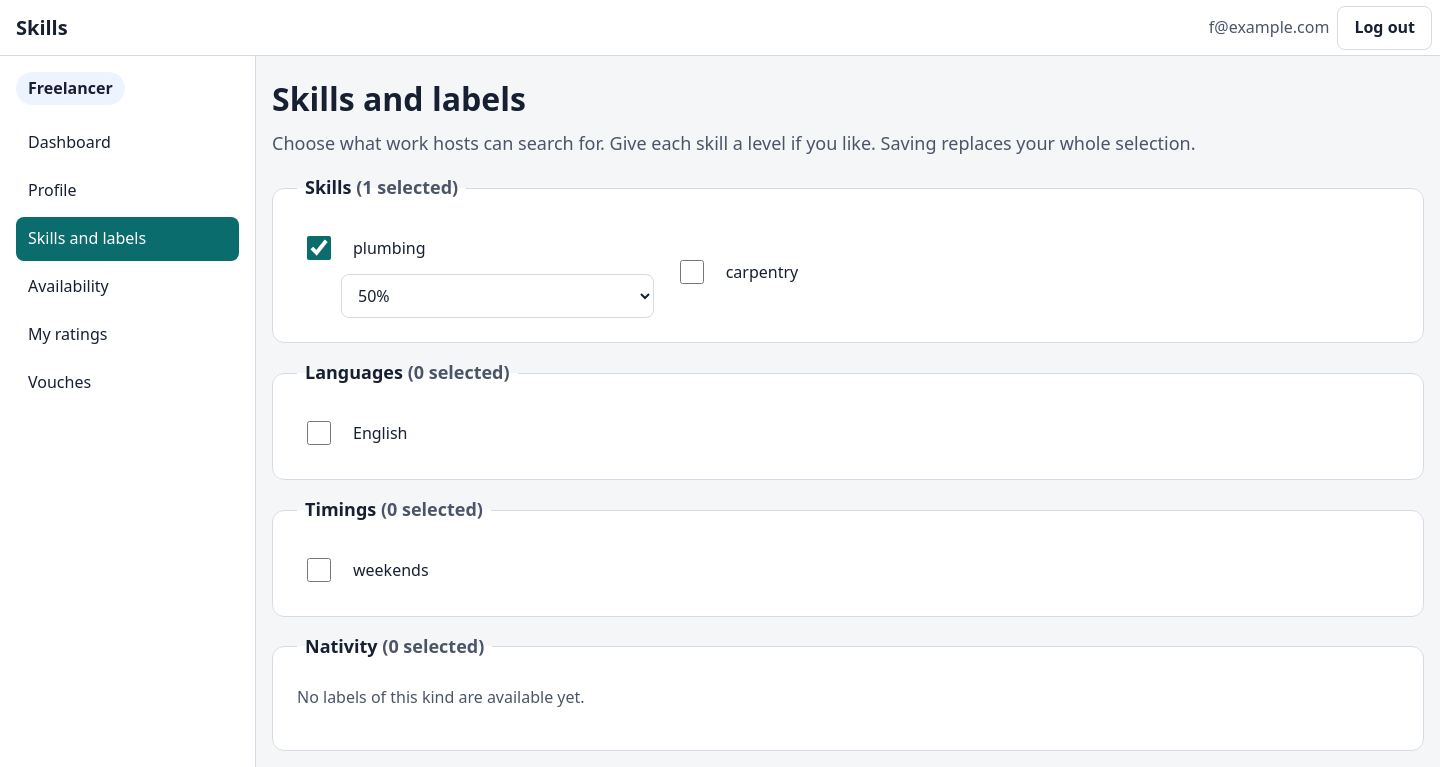
Scenario: skills and labels page › removes a label and its level when it is unticked
Click the checkbox labelled "plumbing": (319,248) [307, 236, 331, 260]
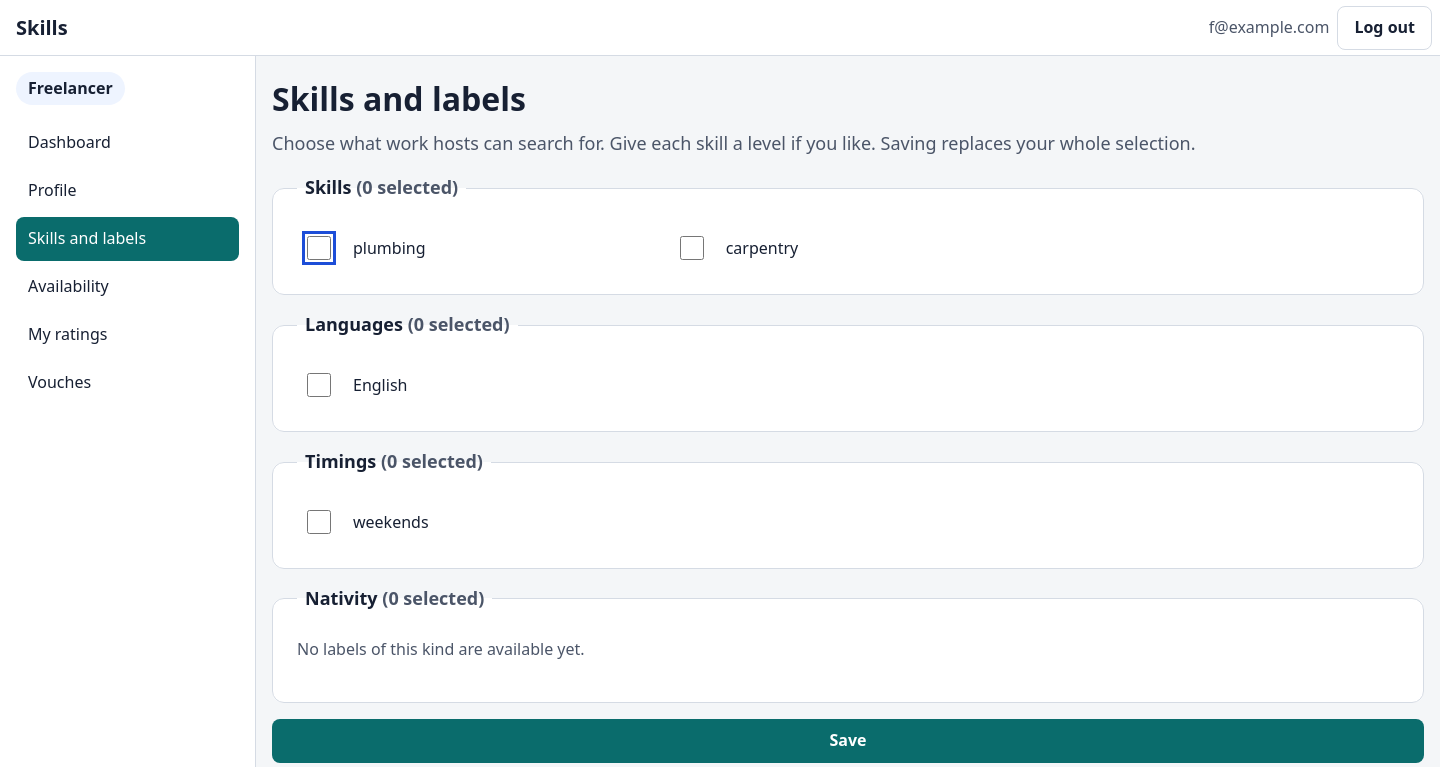
Click the button "Save": (848,741) [272, 719, 1424, 763]
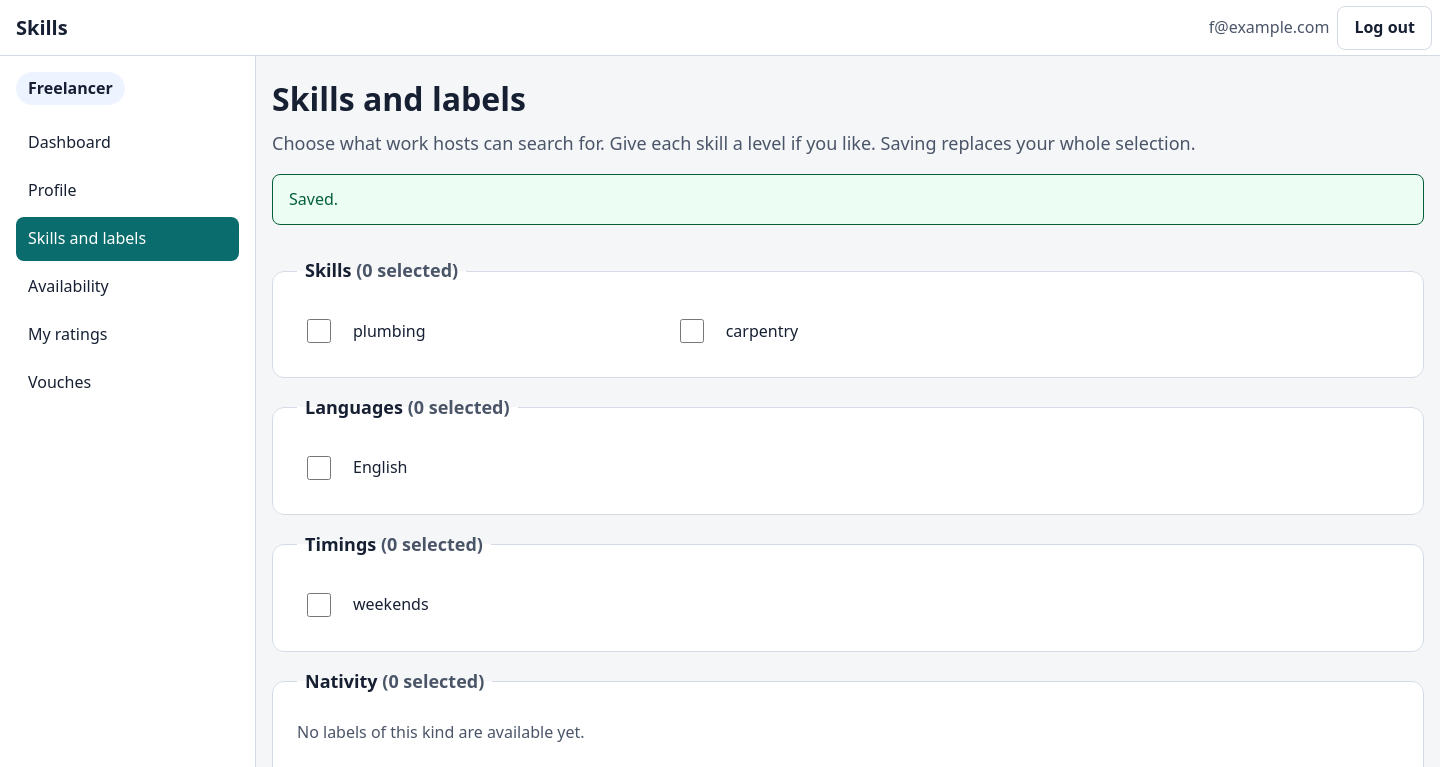
Expected: the message "Saved." is shown, [272, 174, 1424, 225]
